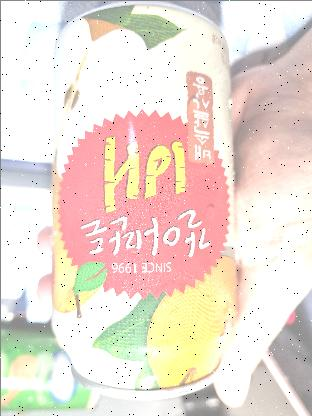Can: (44, 0, 246, 412)
